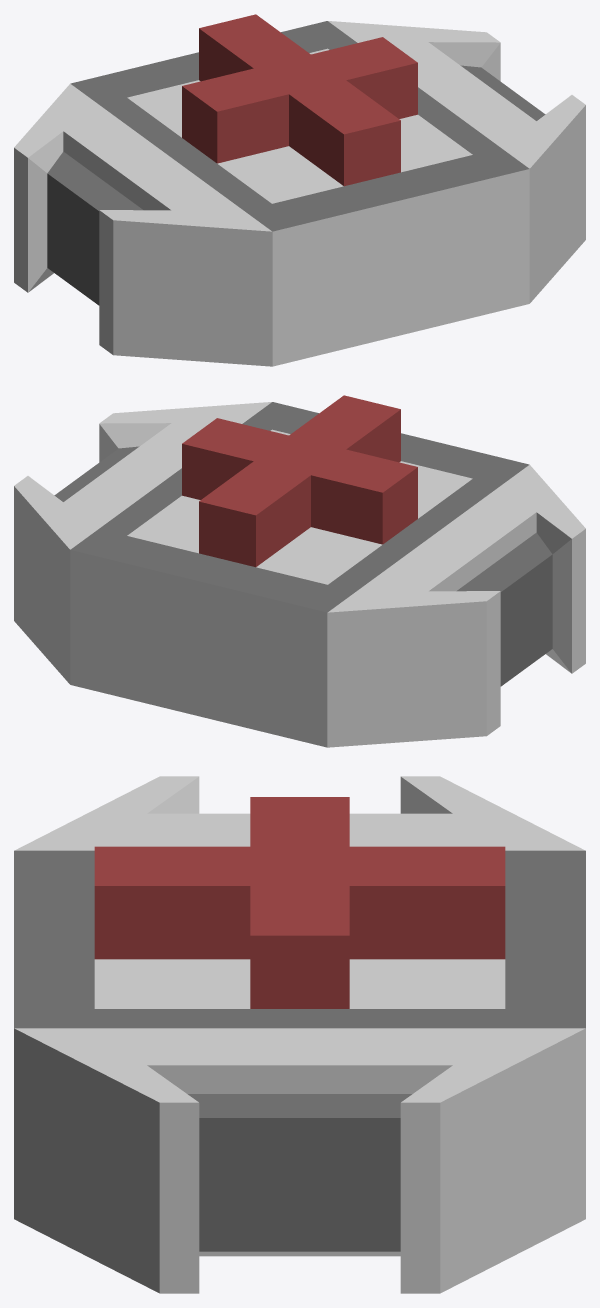
The model's file is healthpack.fbx.
3 renders of one model, top to bottom at view 1: azimuth 30°, elevation 25°; view 2: azimuth 150°, elevation 25°; view 3: azimuth 270°, elevation 25°, orthographic. The views are drawn at different scales.
Parts seen in each view (by area): view 1: pCube1; view 2: pCube1; view 3: pCube1.
Boxes of the visible parts, x1=… form: pCube1: x1=14, y1=14, x2=585, y2=366; pCube1: x1=14, y1=395, x2=585, y2=747; pCube1: x1=14, y1=776, x2=585, y2=1293.
Size of the model in its own units: 4.88 by 1.84 by 3.62.
